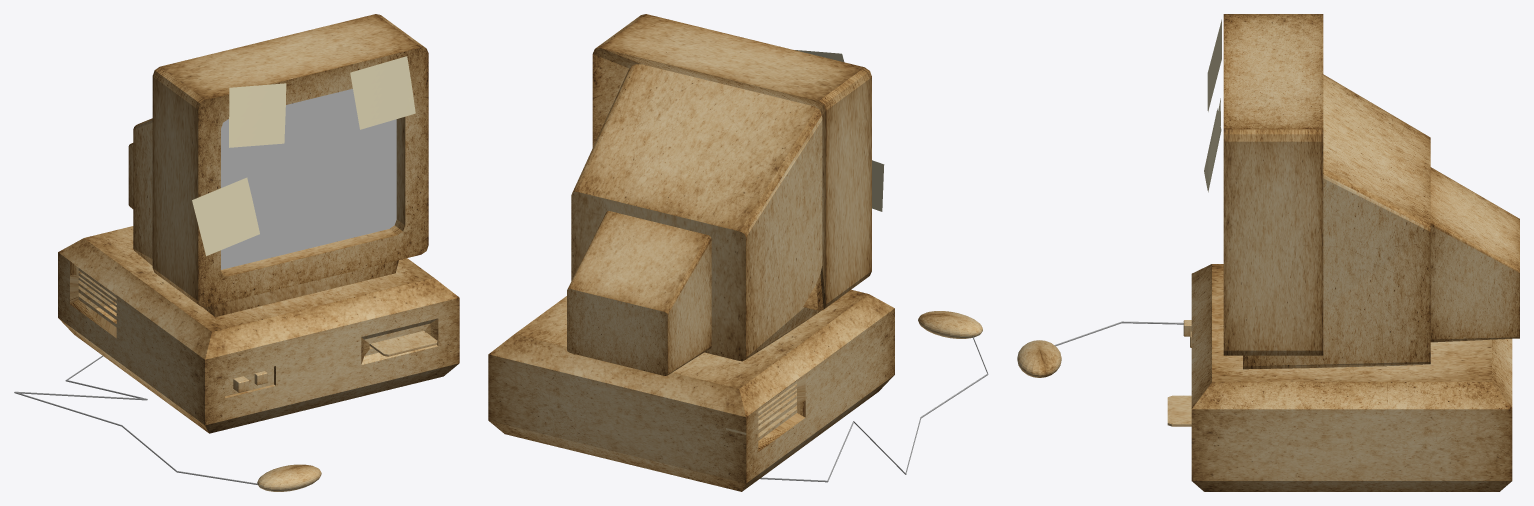
Rendered from الكمبيوتر.fbx.
3 renders of one model, left to right at view 1: azimuth 30°, elevation 25°; view 2: azimuth 150°, elevation 25°; view 3: azimuth 270°, elevation 25°, orthographic. The views are drawn at different scales.
Visible parts, largest first — view 1: pCube9; view 2: pCube9; view 3: pCube9.
Boxes of the visible parts, box(x1,y1,x2,y2) form: pCube9: box(14, 14, 459, 491); pCube9: box(488, 14, 988, 491); pCube9: box(1017, 14, 1519, 491).
Bounding box in the file's own units: 6.55 × 5.99 × 7.35.
